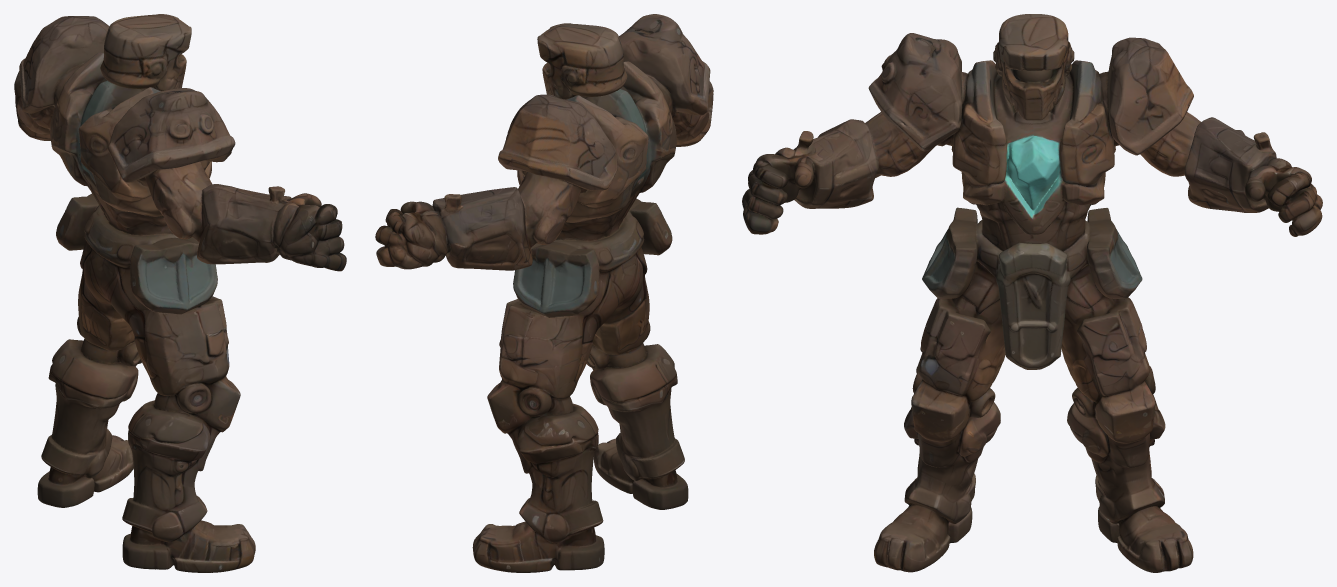
File: عدو_حارس_الصدى.glb
3 renders of one model, left to right at view 1: azimuth 30°, elevation 25°; view 2: azimuth 150°, elevation 25°; view 3: azimuth 270°, elevation 25°, orthographic. The views are drawn at different scales.
Parts seen in each view (by area): view 1: tripo_node_2fdf64d4-b837-4a39-8a74-71cd22537921; view 2: tripo_node_2fdf64d4-b837-4a39-8a74-71cd22537921; view 3: tripo_node_2fdf64d4-b837-4a39-8a74-71cd22537921.
Part boxes in pixels (x1,y1,x2,y2): tripo_node_2fdf64d4-b837-4a39-8a74-71cd22537921: (14,14,346,572); tripo_node_2fdf64d4-b837-4a39-8a74-71cd22537921: (375,14,713,572); tripo_node_2fdf64d4-b837-4a39-8a74-71cd22537921: (742,14,1322,572).
Size of the model in its own units: 0.3342 by 1 by 0.9988.
Materials: 1 (1 with a texture image).
